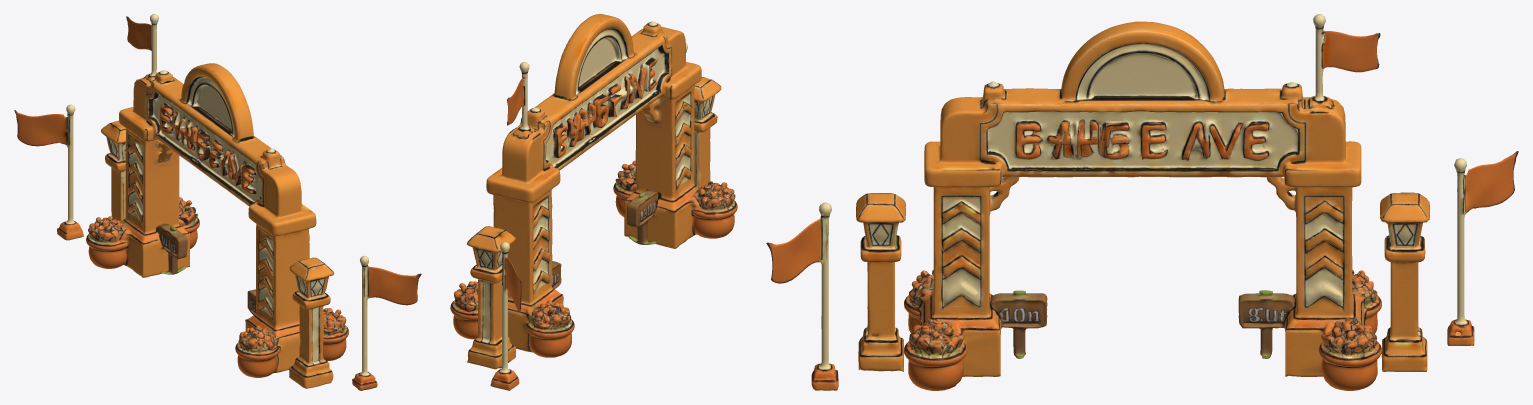
The model's file is tripo_convert_71db262f-f659-422d-8e60-b536ba4d047b.fbx.
The picture shows the model from 3 angles, left to right: view 1: azimuth 30°, elevation 25°; view 2: azimuth 150°, elevation 25°; view 3: azimuth 270°, elevation 25°; orthographic projection. The views are drawn at different scales.
Parts seen in each view (by area): view 1: tripo_node_71db262f; view 2: tripo_node_71db262f; view 3: tripo_node_71db262f.
Part boxes in pixels (<box>): tripo_node_71db262f: <box>14,14,421,390</box>; tripo_node_71db262f: <box>450,14,737,390</box>; tripo_node_71db262f: <box>766,14,1518,390</box>.
Size of the model in its own units: 0.2918 by 0.5088 by 0.9971.
1 material, 1 textured.
